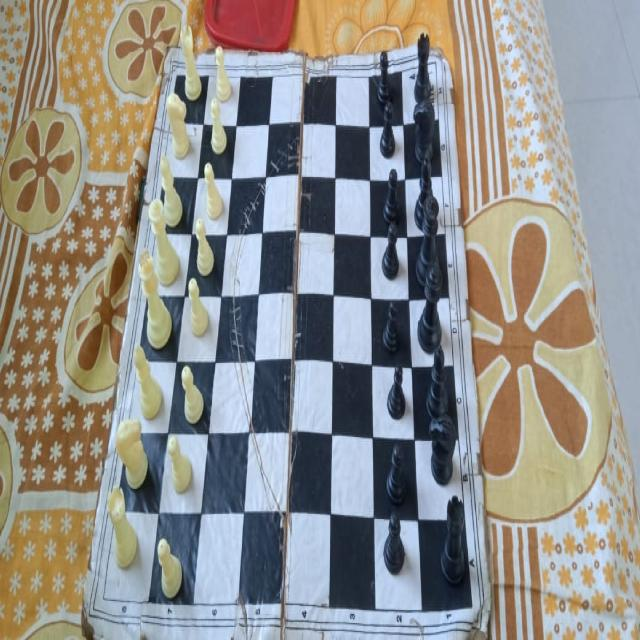corners: (78, 606, 92, 635), (162, 34, 175, 65), (478, 610, 490, 638), (436, 47, 446, 69)
